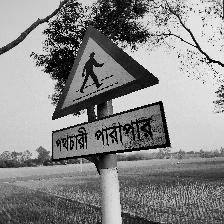Pedestrian-crossing: (50, 25, 170, 164)
